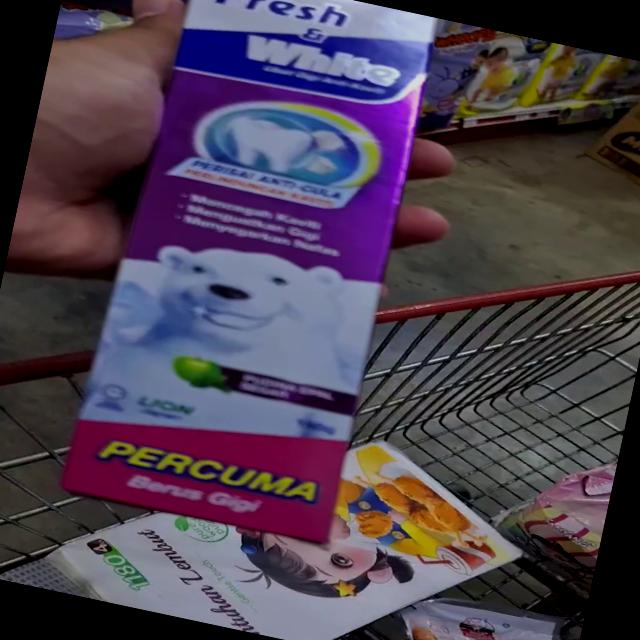Tisu: (0, 480, 365, 640), (332, 447, 528, 610)
Ubat Gigi: (52, 228, 389, 552), (122, 0, 447, 286)
